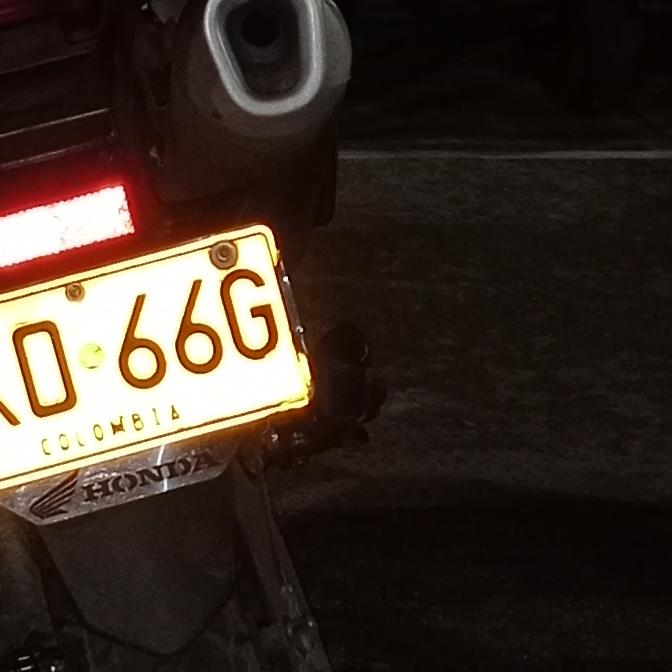plates: (0, 227, 324, 479)
